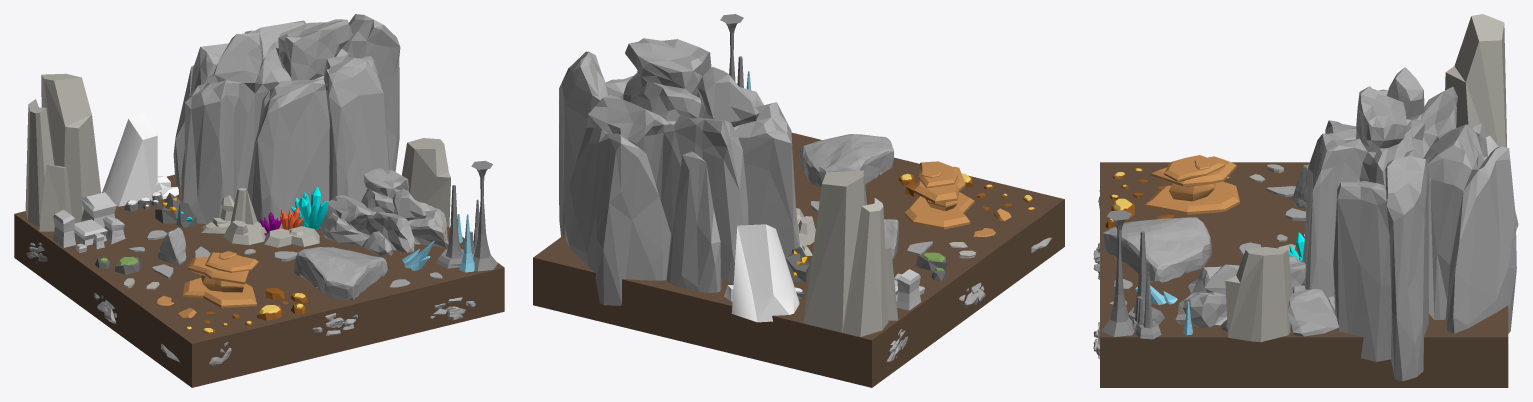
File: Rocks.fbx
3 renders of one model, left to right at view 1: azimuth 30°, elevation 25°; view 2: azimuth 150°, elevation 25°; view 3: azimuth 270°, elevation 25°, orthographic. The views are drawn at different scales.
Parts seen in each view (by area): view 1: Cube, Rock_Chunks_Large_Tall_01 1, Rock_Large_17, Rock_Chunks_Large_01, Rock_Large_Snow_01, Rock_Large_09, Rock_Large_18, Rock_Large_13, Rock_Medium_Dirt_03, Rock_Stalagmite_03, Rock_Stalactite_Stalagmite_Joined_01, Rock_Medium_04 (+15 smaller); view 2: Rock_Chunks_Large_Tall_01 1, Cube, Rock_Large_17, Rock_Large_Snow_01, Rock_Large_09, Rock_Medium_Dirt_03, Rock_Medium_Dirt_05, Rock_Geometric_Square_07, Rock_Medium_Dirt_04, Prop_Ore_Node_Yellow_03, Rock_Stalactite_Stalagmite_Joined_01, Rock_Large_07 (+2 smaller); view 3: Rock_Chunks_Large_Tall_01 1, Cube, Rock_Large_17, Rock_Large_18, Rock_Chunks_Large_01, Rock_Large_09, Rock_Medium_Dirt_03, Rock_Stalagmite_03, Rock_Stalactite_Stalagmite_Joined_01, Rock_Medium_Dirt_04, Rock_Medium_Dirt_05, Rock_Medium_Dirt_06 (+1 smaller).
Boxes of the visible parts, x1,y1,x2,y2 form: Cube: (14, 174, 504, 387); Rock_Chunks_Large_Tall_01 1: (173, 14, 400, 227); Rock_Large_17: (25, 73, 100, 231); Rock_Chunks_Large_01: (320, 168, 448, 256); Rock_Large_Snow_01: (102, 112, 157, 206); Rock_Large_09: (294, 247, 387, 300); Rock_Large_18: (402, 138, 450, 226); Rock_Large_13: (223, 188, 266, 245); Rock_Medium_Dirt_03: (183, 277, 256, 307); Rock_Stalagmite_03: (435, 185, 479, 268); Rock_Stalactite_Stalagmite_Joined_01: (471, 160, 497, 271); Rock_Medium_04: (264, 226, 319, 247); Rock_Chunks_Large_Tall_01 1: (559, 38, 799, 305); Cube: (533, 132, 1064, 387); Rock_Large_17: (803, 170, 898, 336); Rock_Large_Snow_01: (731, 224, 799, 322); Rock_Large_09: (799, 134, 894, 187); Rock_Medium_Dirt_03: (904, 192, 974, 229); Rock_Medium_Dirt_05: (913, 166, 965, 203); Rock_Geometric_Square_07: (896, 269, 921, 310); Rock_Medium_Dirt_04: (918, 161, 957, 188); Prop_Ore_Node_Yellow_03: (785, 250, 810, 281); Rock_Stalactite_Stalagmite_Joined_01: (720, 14, 743, 81); Rock_Large_07: (884, 219, 898, 259); Rock_Chunks_Large_Tall_01 1: (1302, 67, 1516, 381); Cube: (1100, 162, 1508, 387); Rock_Large_17: (1445, 14, 1506, 147); Rock_Large_18: (1225, 247, 1292, 342); Rock_Chunks_Large_01: (1175, 256, 1338, 336); Rock_Large_09: (1102, 217, 1211, 282); Rock_Medium_Dirt_03: (1145, 182, 1239, 214); Rock_Stalagmite_03: (1128, 231, 1164, 339); Rock_Stalactite_Stalagmite_Joined_01: (1101, 210, 1134, 336); Rock_Medium_Dirt_04: (1164, 155, 1224, 181); Rock_Medium_Dirt_05: (1151, 156, 1236, 187); Rock_Medium_Dirt_06: (1169, 183, 1215, 201).
Size of the model in its own units: 11.6 by 6.99 by 10.89.
